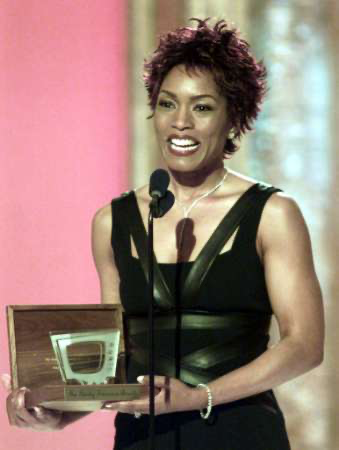Face: (146, 66, 228, 177)
